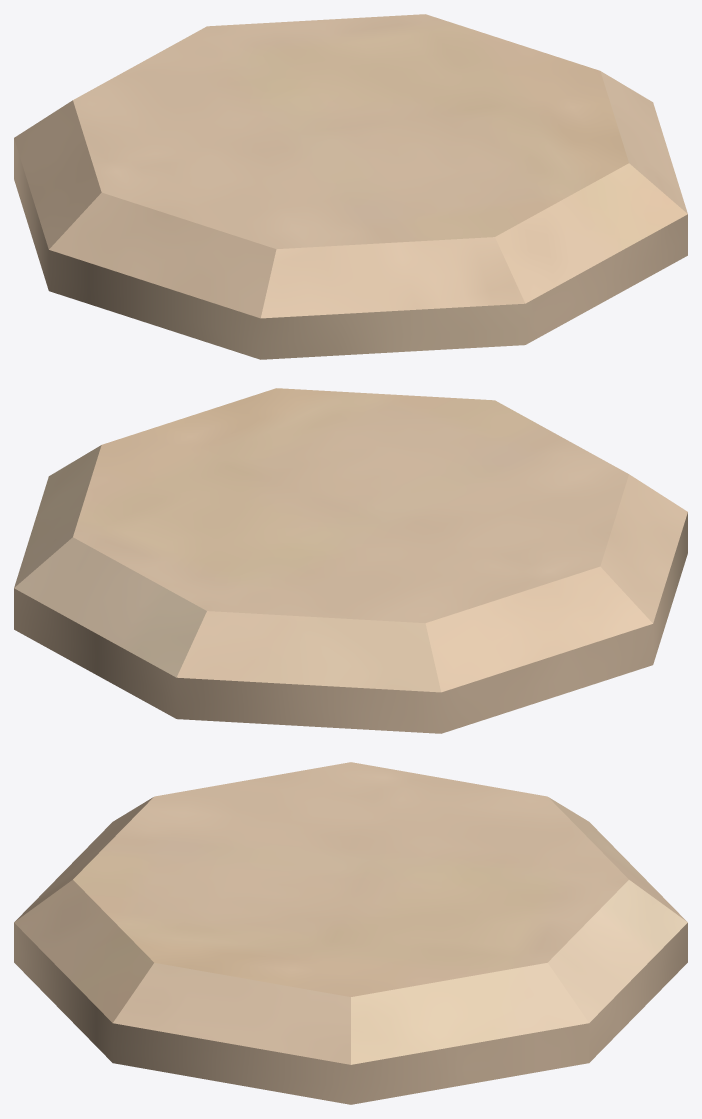
File: plate3.FBX
3 renders of one model, top to bottom at view 1: azimuth 30°, elevation 25°; view 2: azimuth 150°, elevation 25°; view 3: azimuth 270°, elevation 25°, orthographic. The views are drawn at different scales.
Visible parts, largest first — view 1: Cylinder001; view 2: Cylinder001; view 3: Cylinder001.
Boxes of the visible parts, x1=… form: Cylinder001: x1=14, y1=14, x2=687, y2=359; Cylinder001: x1=14, y1=388, x2=687, y2=733; Cylinder001: x1=14, y1=762, x2=687, y2=1104.
Size of the model in its own units: 43.71 by 5.93 by 43.71.
Materials: 1 (1 with a texture image).
